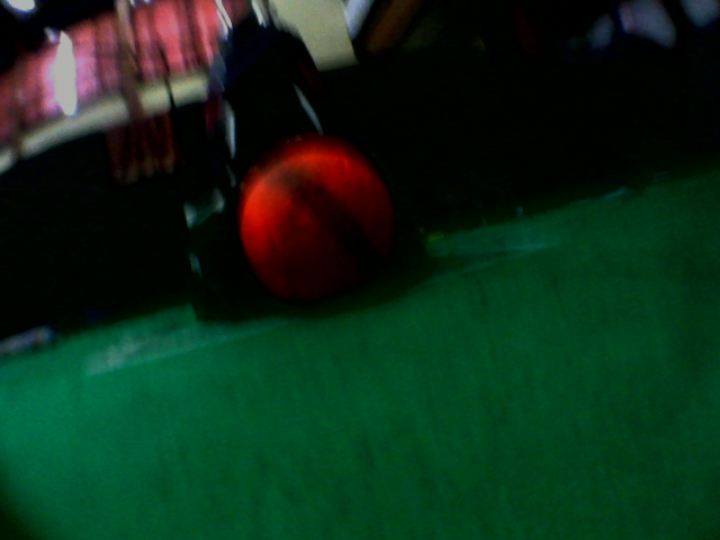bola: (232, 139, 404, 312)
